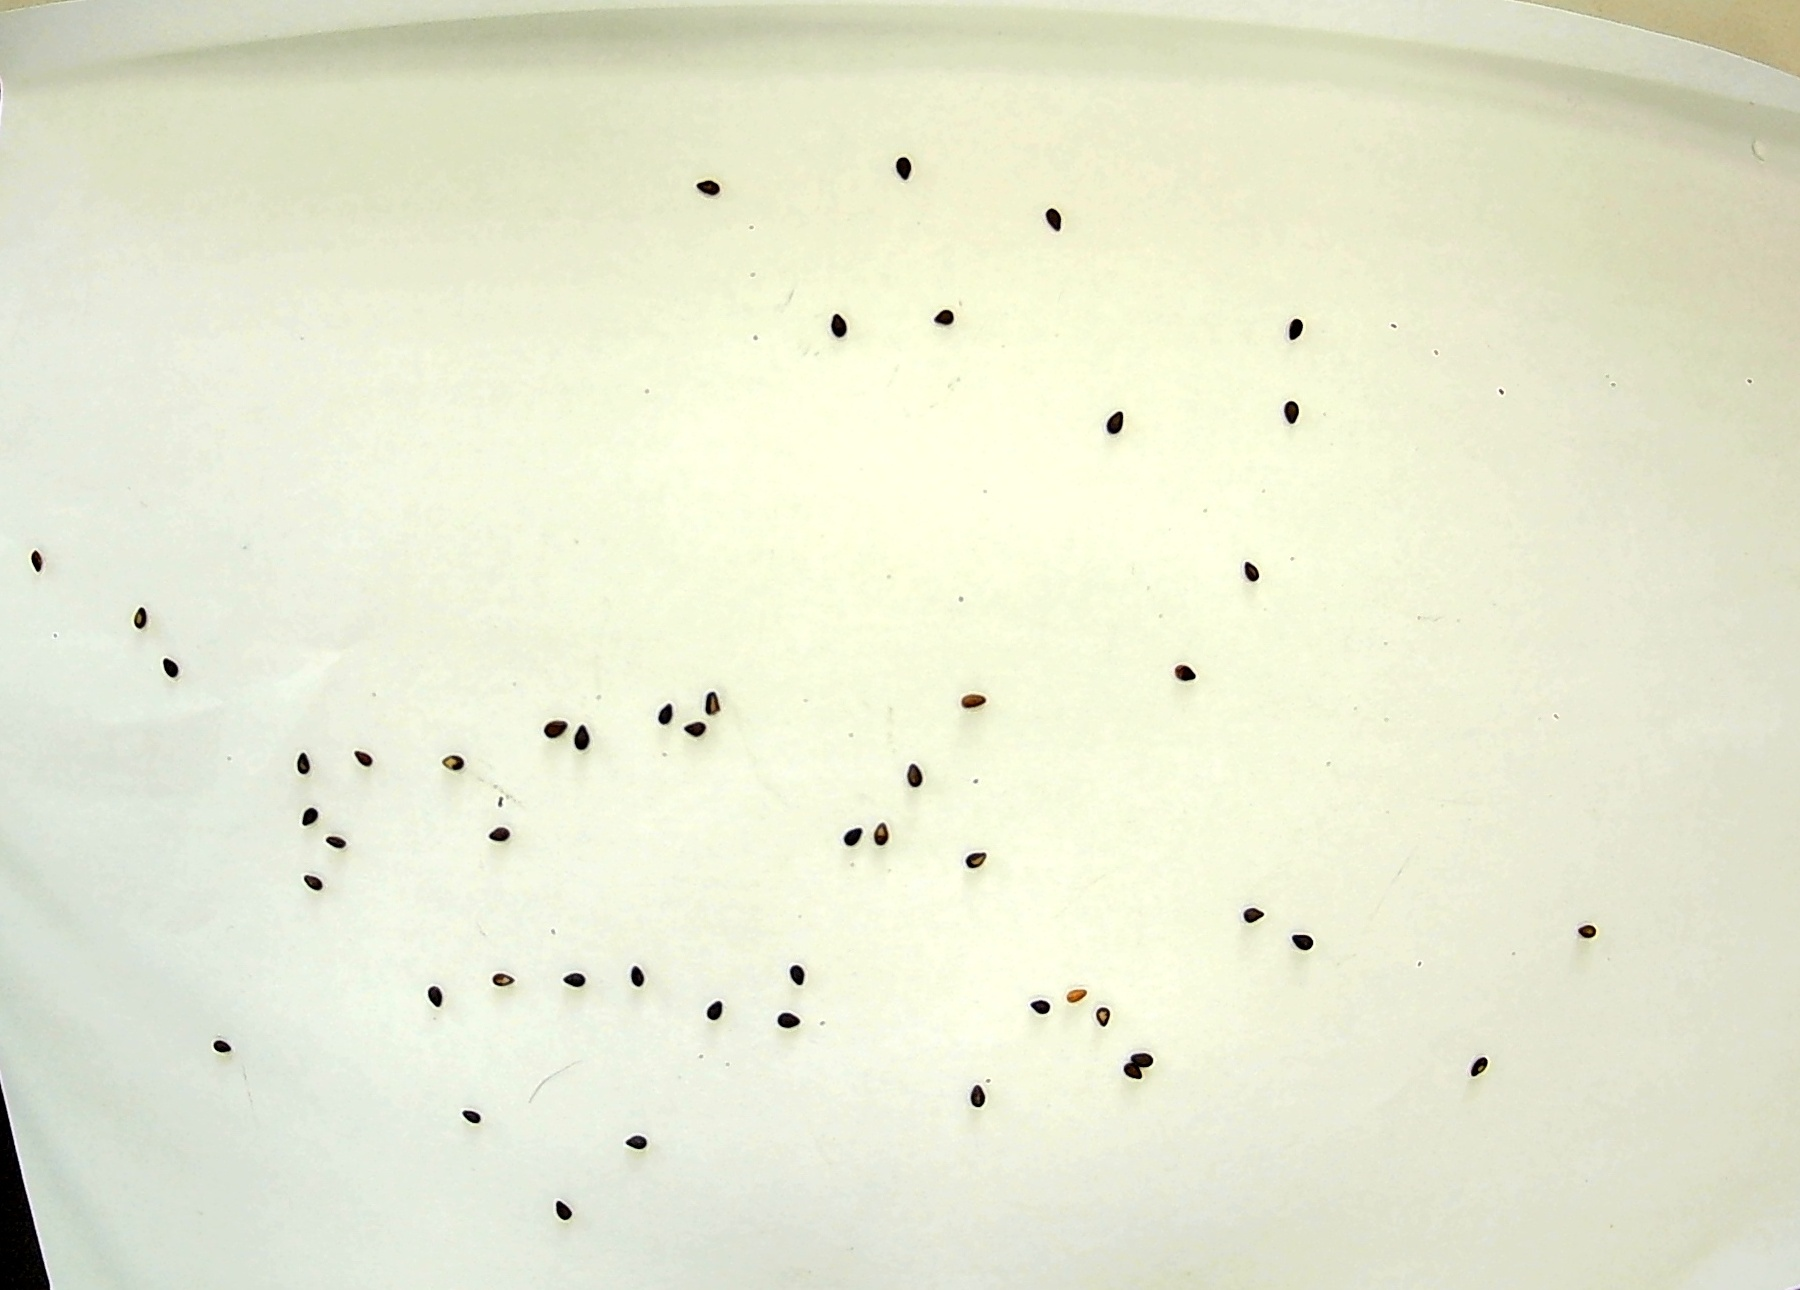sesami: (435, 746, 488, 778), (1574, 919, 1612, 955), (1465, 1050, 1501, 1086), (827, 309, 860, 348), (929, 299, 961, 336), (1105, 405, 1133, 448), (1280, 392, 1313, 427), (890, 151, 924, 186), (682, 711, 714, 746), (770, 1007, 807, 1037), (417, 974, 447, 1012), (956, 685, 993, 715), (959, 1083, 995, 1113), (961, 846, 998, 875), (548, 1196, 580, 1229), (1062, 979, 1093, 1012), (537, 713, 569, 744), (786, 956, 811, 995), (700, 685, 728, 720), (1126, 1040, 1161, 1068), (488, 965, 525, 991), (868, 815, 899, 846), (1287, 928, 1320, 956), (576, 720, 603, 755), (557, 967, 600, 988), (900, 757, 929, 787), (652, 695, 680, 727), (1240, 551, 1268, 584), (625, 1127, 652, 1160), (128, 605, 156, 635), (483, 820, 513, 847), (706, 995, 737, 1023), (702, 173, 733, 201), (347, 744, 380, 771), (320, 831, 360, 852), (158, 651, 181, 685), (841, 821, 868, 852), (294, 870, 331, 892), (1042, 200, 1065, 236), (1168, 659, 1201, 683), (1108, 1064, 1140, 1088), (1090, 998, 1113, 1030), (1287, 306, 1307, 342), (293, 751, 318, 780), (1026, 995, 1055, 1021), (1240, 900, 1270, 926), (631, 961, 653, 993), (294, 806, 324, 828), (27, 546, 47, 577), (207, 1036, 239, 1053), (460, 1104, 481, 1128)
